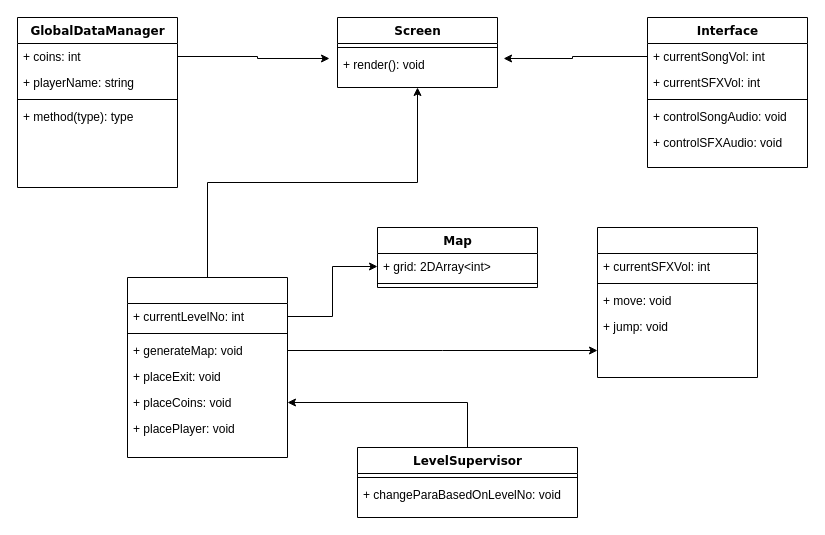
The diagram is 825 pixels wide and 535 high, and some of its shapes have lost their labels. Each missing label, with the box of its shape:
LevelGenerator: (126, 276, 288, 458)
Player: (596, 226, 758, 378)
